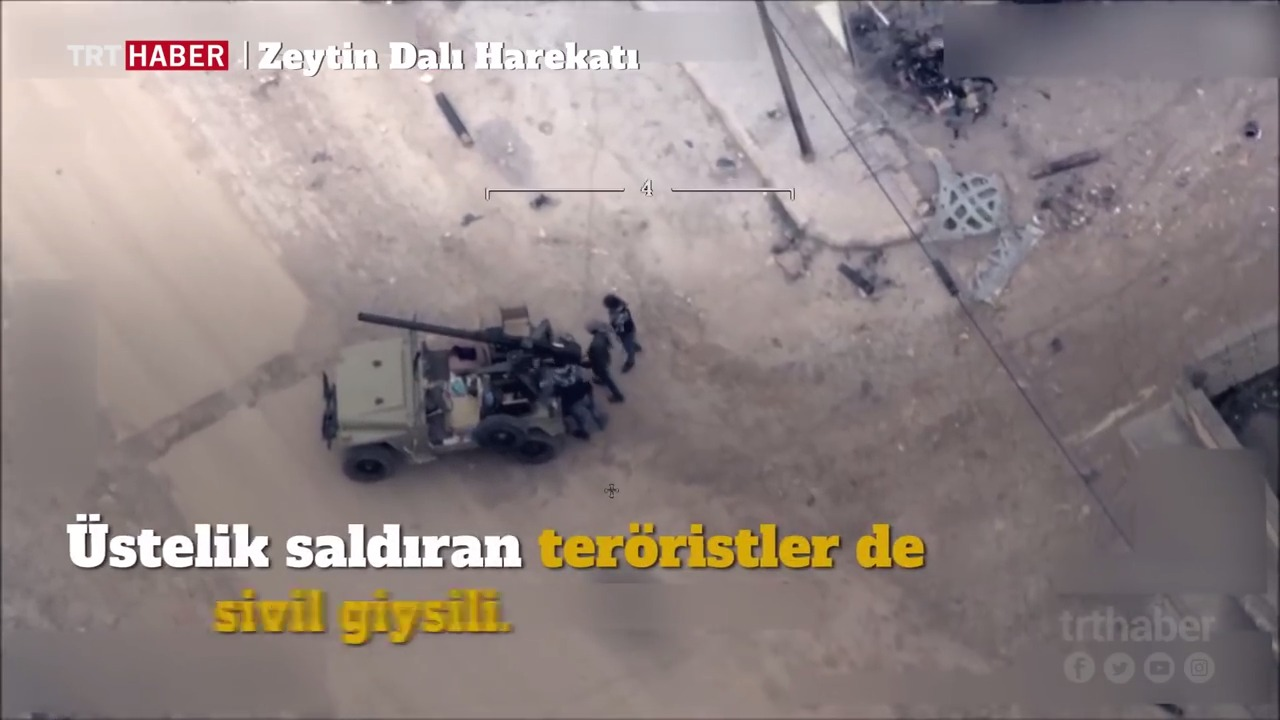arac: (297, 296, 579, 485)
insan: (583, 311, 620, 408), (604, 278, 645, 365)
